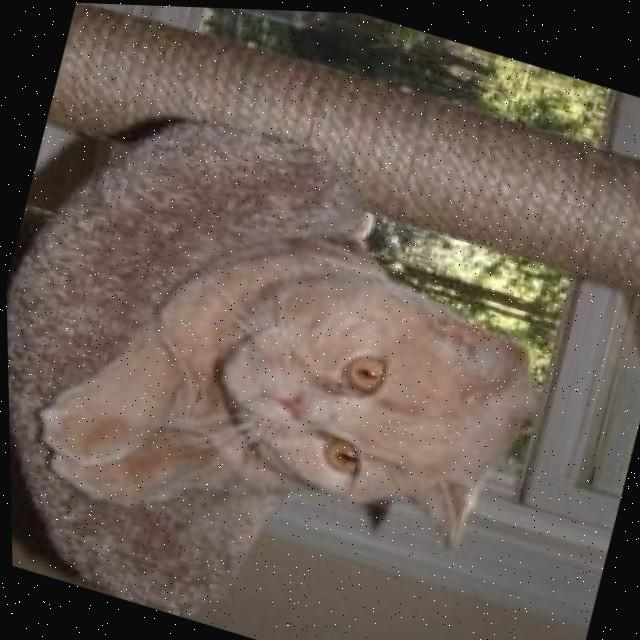British Shorthair: (13, 162, 566, 618)
